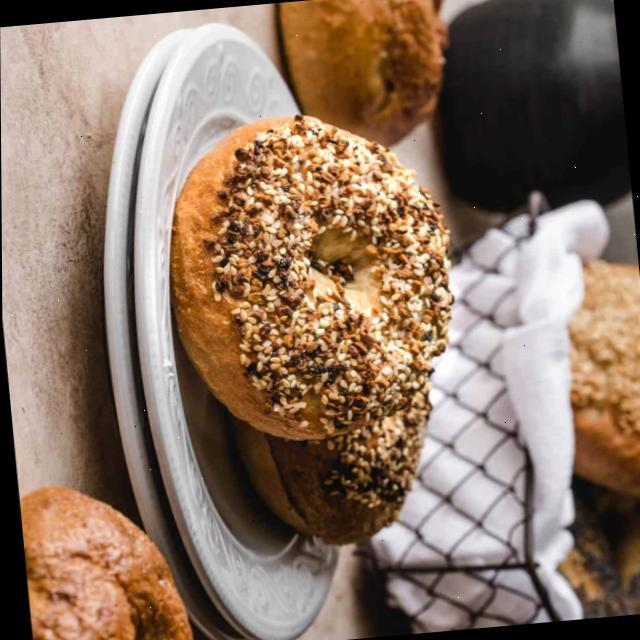Bagel: (169, 116, 451, 439), (234, 383, 429, 545)
